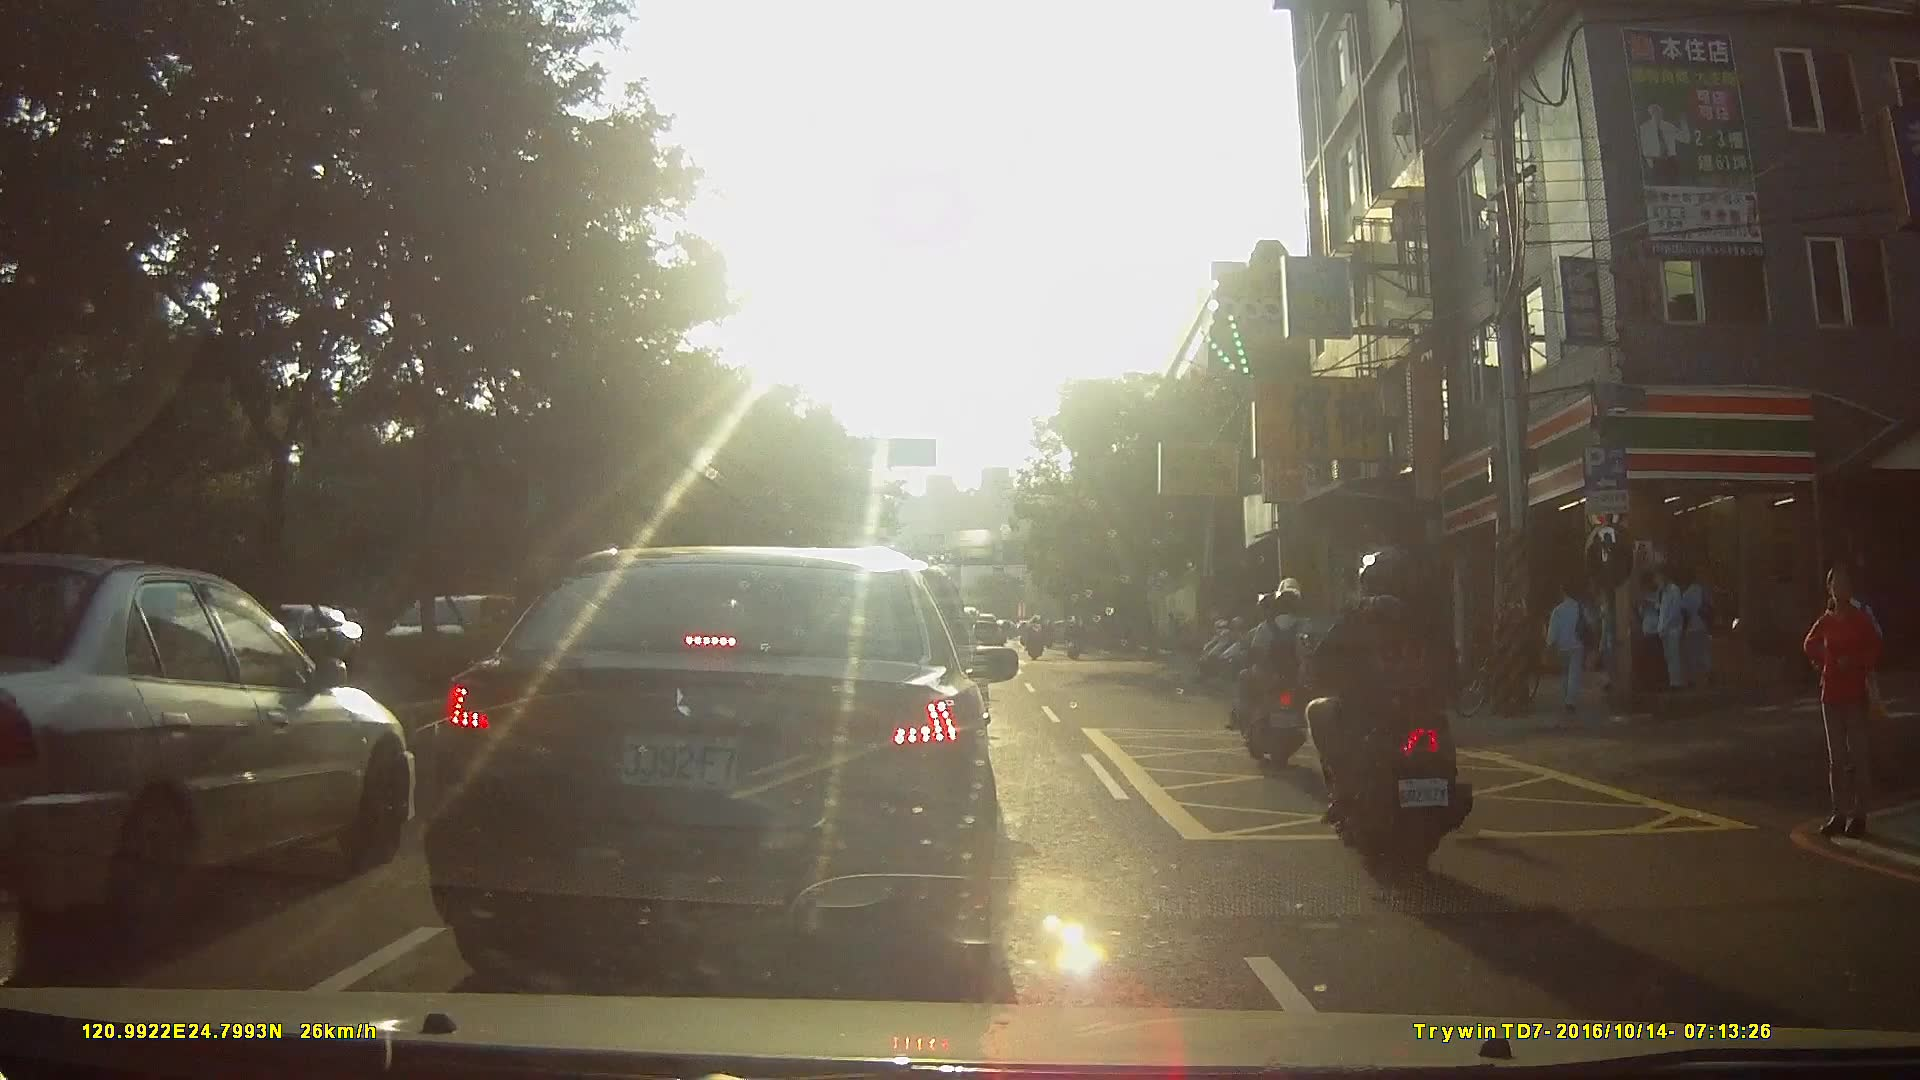pedestrian: (1803, 567, 1887, 843), (1546, 579, 1600, 715), (1643, 567, 1684, 695), (1632, 569, 1671, 702), (1679, 564, 1720, 689), (1597, 577, 1617, 709)
rider: (1307, 550, 1468, 879), (1223, 580, 1324, 769), (1024, 612, 1047, 663), (1064, 616, 1086, 663)
vehicle: (435, 538, 1040, 979), (8, 550, 429, 934)
